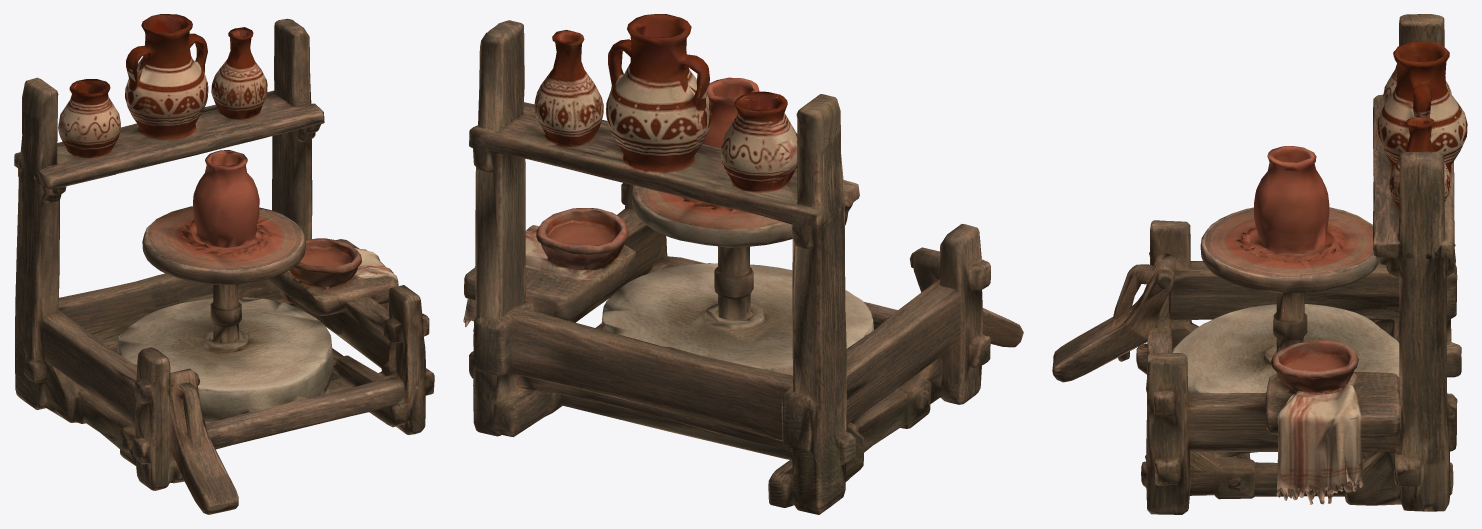
Rendered from city_nevsehir_pottery_wheel.glb.
3 views of the same model, side by side, from view 1: azimuth 30°, elevation 25°; view 2: azimuth 150°, elevation 25°; view 3: azimuth 270°, elevation 25° (orthographic). The views are drawn at different scales.
Parts seen in each view (by area): view 1: Mesh1.0; view 2: Mesh1.0; view 3: Mesh1.0.
Part boxes in pixels (bbox=[...]): Mesh1.0: bbox=[14, 14, 434, 514]; Mesh1.0: bbox=[463, 14, 1023, 514]; Mesh1.0: bbox=[1052, 14, 1467, 514].
Size of the model in its own units: 1.97 by 2 by 1.93.
Materials: 1 (1 with a texture image).
